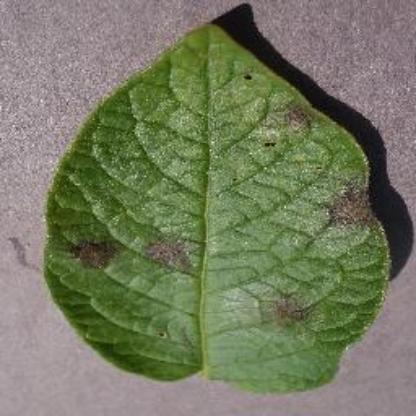Late-Blight: (20, 36, 396, 408)
